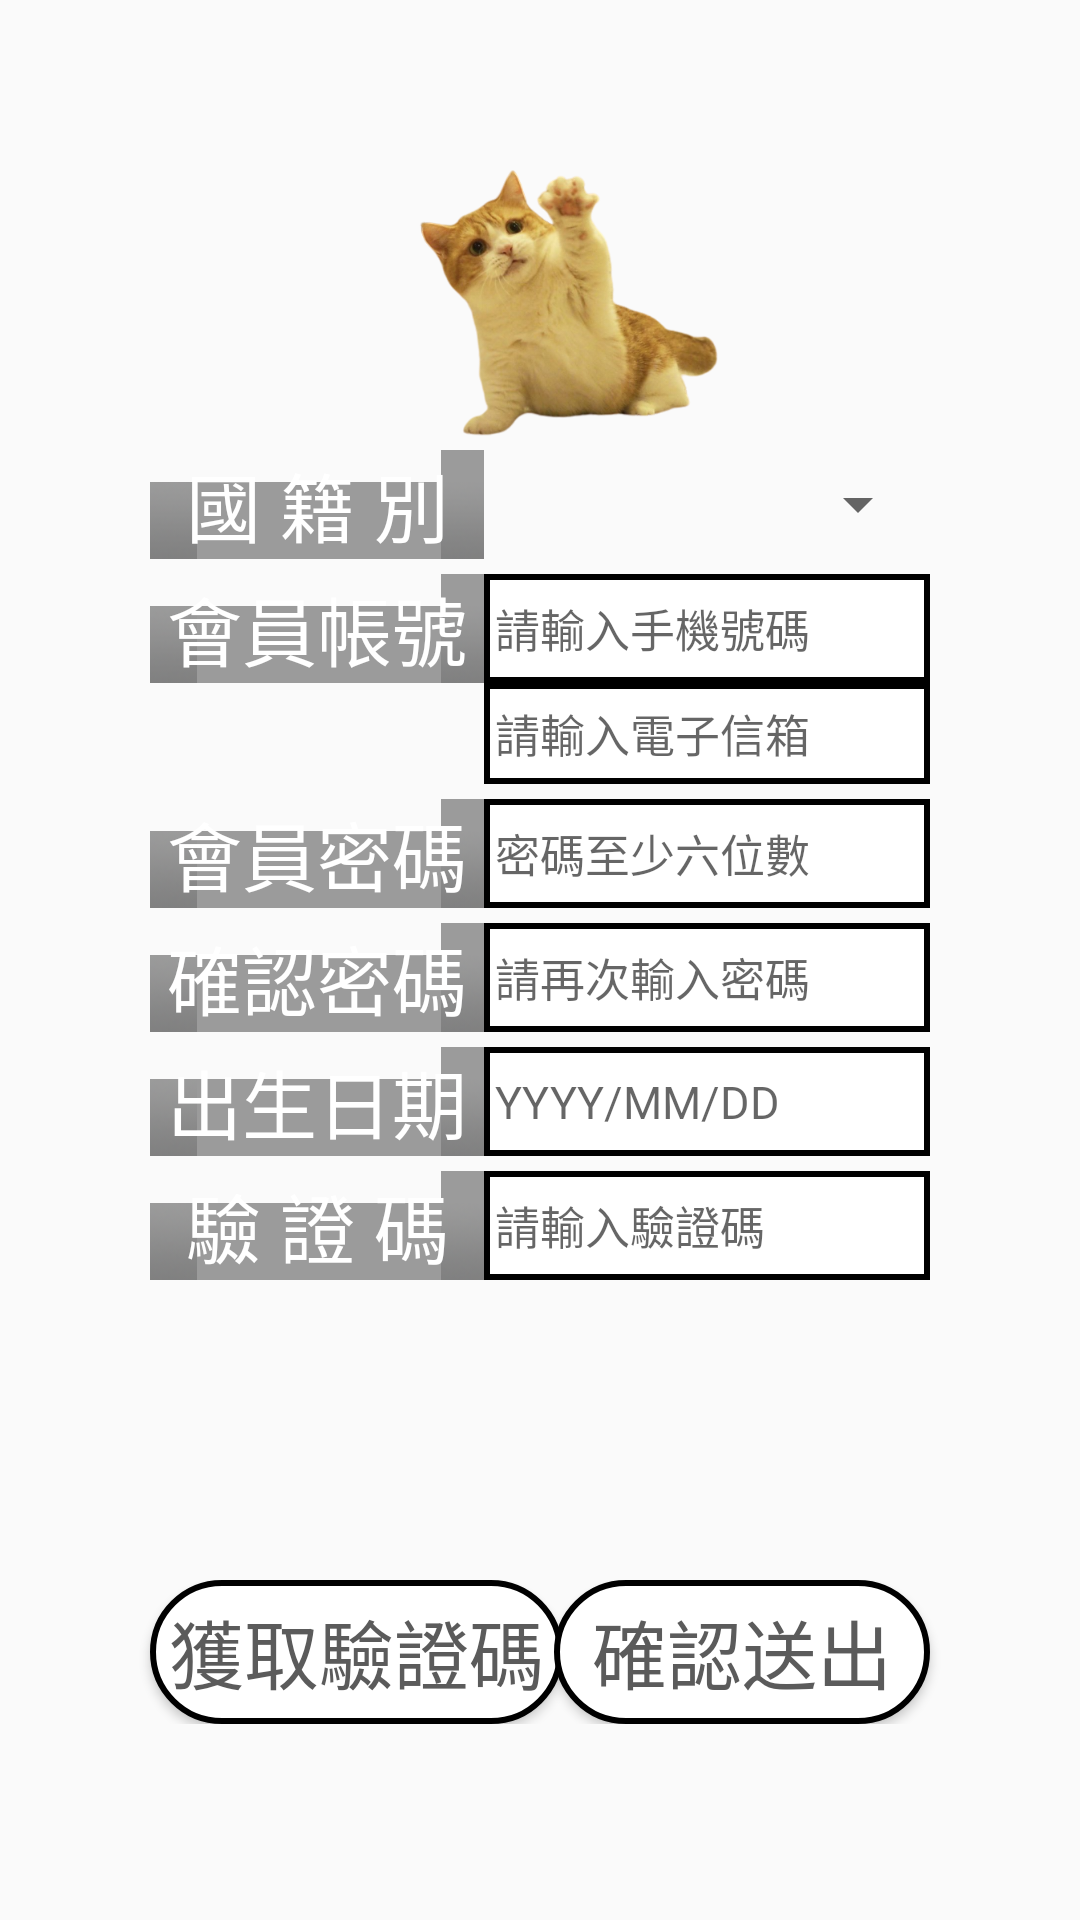

Where to tap for icons on this 1080*1920 app screen, as point (x, y):
cat: point (568, 302)
